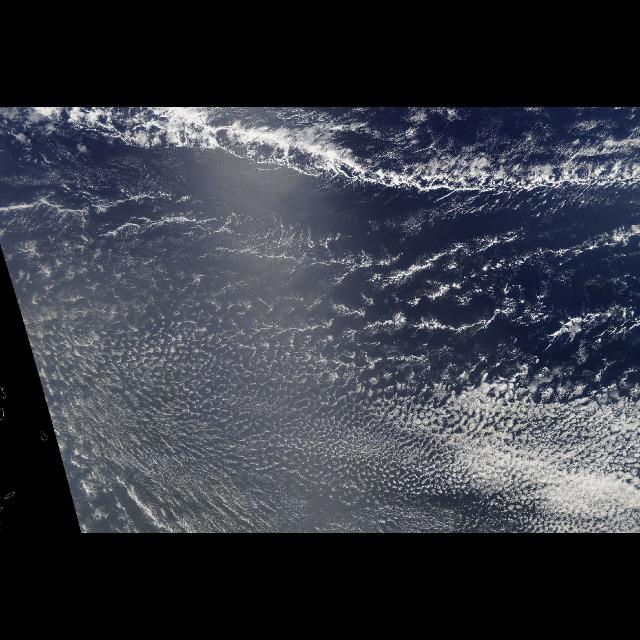Fish: (190, 114, 640, 270)
Flower: (228, 306, 576, 526)
Gravel: (16, 198, 640, 524)
